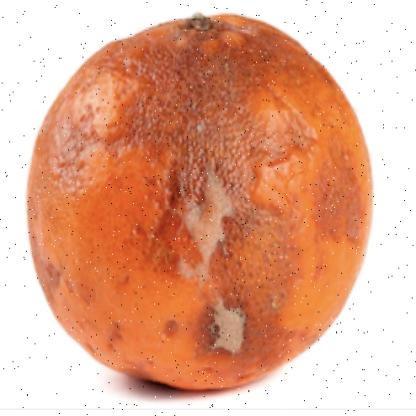rotten: (22, 14, 374, 396)
